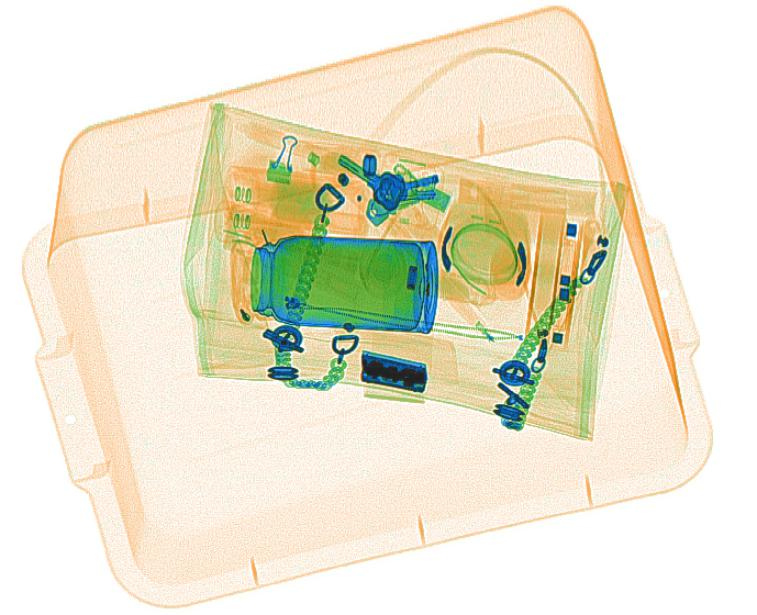plasticBottleWithaNozzle: (218, 200, 362, 271), (224, 162, 364, 234)
